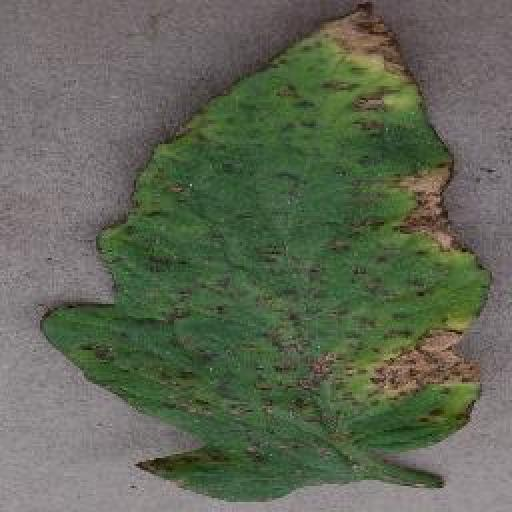Bacterial Spot: (35, 0, 512, 508)
